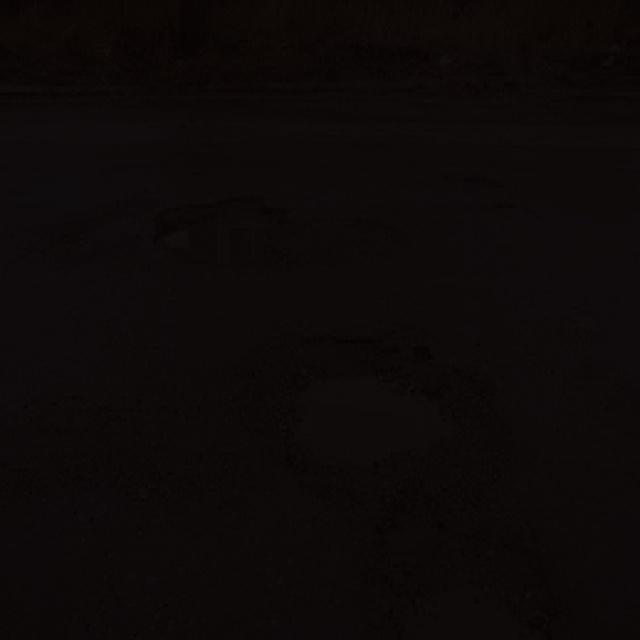Pothole: (236, 323, 566, 640), (155, 179, 419, 275), (454, 169, 538, 218)
